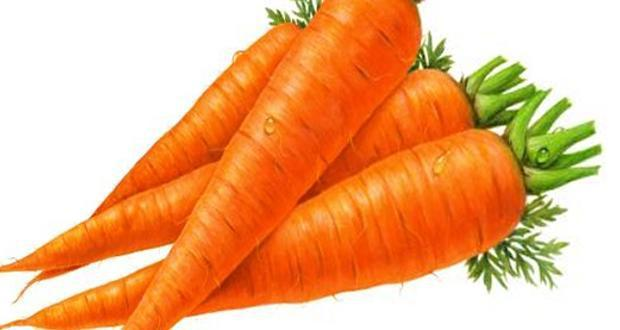carrot: (5, 0, 549, 330)
